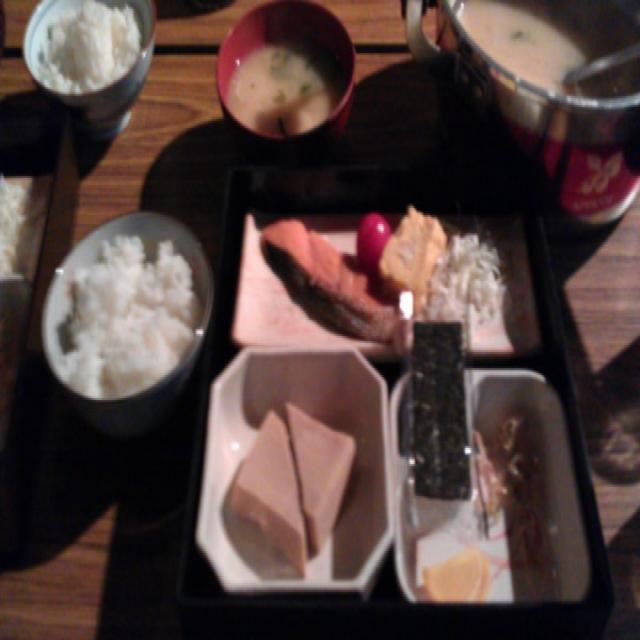Rice: (10, 0, 140, 89)
